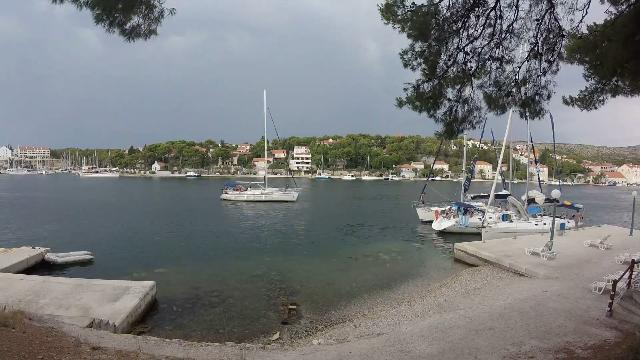Sailboat: (217, 174, 309, 206)
